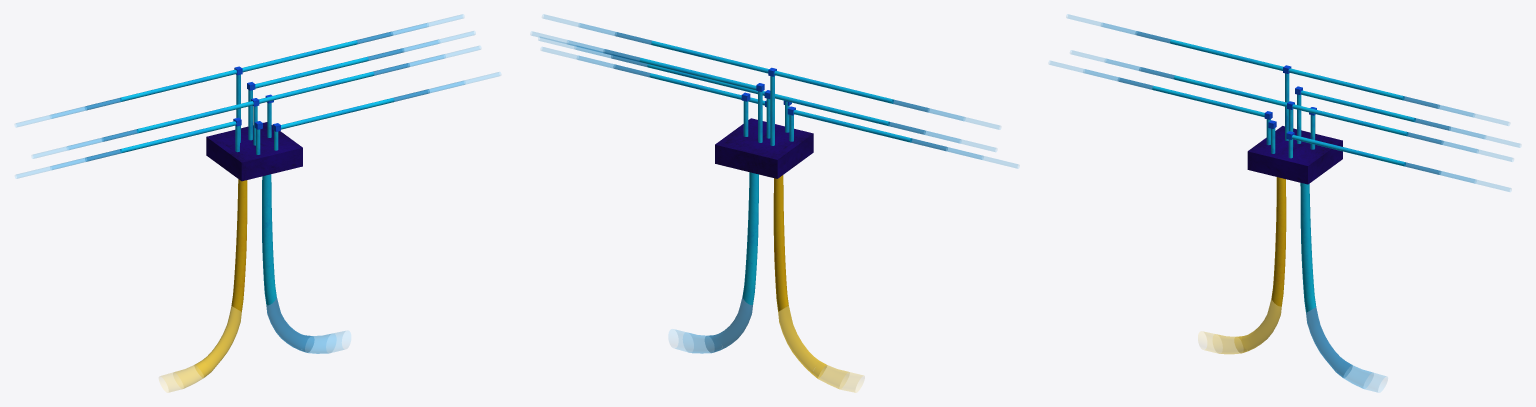
The model's file is smartwan.obj.
3 views of the same model, side by side, from view 1: azimuth 30°, elevation 25°; view 2: azimuth 150°, elevation 25°; view 3: azimuth 330°, elevation 25° (orthographic). The views are drawn at different scales.
Parts seen in each view (by area): view 1: pCube3, Leg2_Leg1_toppart_polySurface4, Leg1_toppart_polySurface2_Leg1_toppart_polySurface2_Leg1, polySurface10_Leg2, Leg1_polySurface8_polySurface8_Secondpart, HorizontalPipes_Hpipe8, HorizontalPipes_Hpipe, HorizontalPipes_Hpipe2, HorizontalPipes_Hpipe7, HorizontalPipes_Hpipe1, HorizontalPipes_Hpipe6, HorizontalPipes_Hpipe5 (+2 smaller); view 2: pCube3, Leg2_Leg1_toppart_polySurface4, Leg1_toppart_polySurface2_Leg1_toppart_polySurface2_Leg1, polySurface10_Leg2, Leg1_polySurface8_polySurface8_Secondpart, HorizontalPipes_Hpipe, HorizontalPipes_Hpipe2, HorizontalPipes_Hpipe1, HorizontalPipes_Hpipe6, HorizontalPipes_Hpipe8, HorizontalPipes_Hpipe5, Leg2_Middlepart2 (+2 smaller); view 3: pCube3, Leg2_Leg1_toppart_polySurface4, Leg1_toppart_polySurface2_Leg1_toppart_polySurface2_Leg1, Leg1_polySurface8_polySurface8_Secondpart, polySurface10_Leg2, HorizontalPipes_Hpipe7, HorizontalPipes_Hpipe1, HorizontalPipes_Hpipe6, HorizontalPipes_Hpipe5, HorizontalPipes_Hpipe8, HorizontalPipes_Hpipe, HorizontalPipes_Hpipe2 (+2 smaller).
Boxes of the visible parts, x1,y1,x2,y2 form: pCube3: (206, 122, 302, 181); Leg2_Leg1_toppart_polySurface4: (231, 179, 247, 311); Leg1_toppart_polySurface2_Leg1_toppart_polySurface2_Leg1: (262, 174, 276, 305); polySurface10_Leg2: (194, 306, 241, 377); Leg1_polySurface8_polySurface8_Secondpart: (266, 297, 314, 352); HorizontalPipes_Hpipe8: (136, 101, 253, 133); HorizontalPipes_Hpipe: (120, 69, 236, 101); HorizontalPipes_Hpipe2: (120, 121, 236, 152); HorizontalPipes_Hpipe7: (259, 71, 374, 103); HorizontalPipes_Hpipe1: (242, 40, 357, 72); HorizontalPipes_Hpipe6: (255, 57, 368, 88); HorizontalPipes_Hpipe5: (281, 98, 394, 129); pCube3: (715, 118, 813, 178); Leg2_Leg1_toppart_polySurface4: (773, 175, 788, 311); Leg1_toppart_polySurface2_Leg1_toppart_polySurface2_Leg1: (742, 172, 758, 304); polySurface10_Leg2: (778, 305, 826, 378); Leg1_polySurface8_polySurface8_Secondpart: (704, 296, 752, 352); HorizontalPipes_Hpipe: (774, 71, 893, 103); HorizontalPipes_Hpipe2: (793, 110, 911, 142); HorizontalPipes_Hpipe1: (651, 40, 768, 73); HorizontalPipes_Hpipe6: (639, 58, 756, 90); HorizontalPipes_Hpipe8: (775, 94, 889, 125); HorizontalPipes_Hpipe5: (649, 73, 764, 105); Leg2_Middlepart2: (818, 365, 849, 388); pCube3: (1247, 126, 1342, 184); Leg2_Leg1_toppart_polySurface4: (1271, 177, 1286, 306); Leg1_toppart_polySurface2_Leg1_toppart_polySurface2_Leg1: (1300, 183, 1316, 312); Leg1_polySurface8_polySurface8_Secondpart: (1306, 307, 1352, 377); polySurface10_Leg2: (1234, 298, 1281, 353); HorizontalPipes_Hpipe7: (1292, 104, 1408, 136); HorizontalPipes_Hpipe1: (1288, 68, 1404, 100); HorizontalPipes_Hpipe6: (1300, 90, 1415, 121); HorizontalPipes_Hpipe5: (1292, 135, 1405, 166); HorizontalPipes_Hpipe8: (1173, 75, 1287, 106); HorizontalPipes_Hpipe: (1170, 39, 1283, 70); HorizontalPipes_Hpipe2: (1152, 86, 1264, 117).
Size of the model in its own units: 8.72 by 5.28 by 1.12.
Materials: 7 (1 with a texture image).
